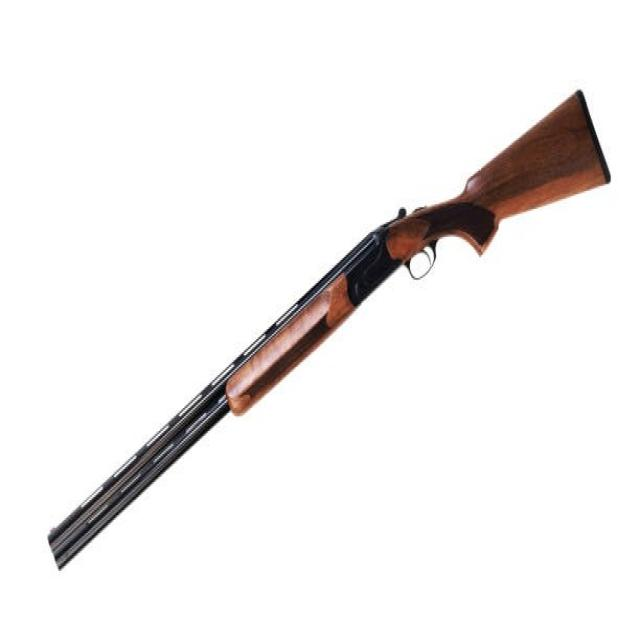rifle: (43, 77, 621, 583)
